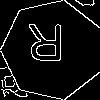R: (27, 25, 65, 70)
